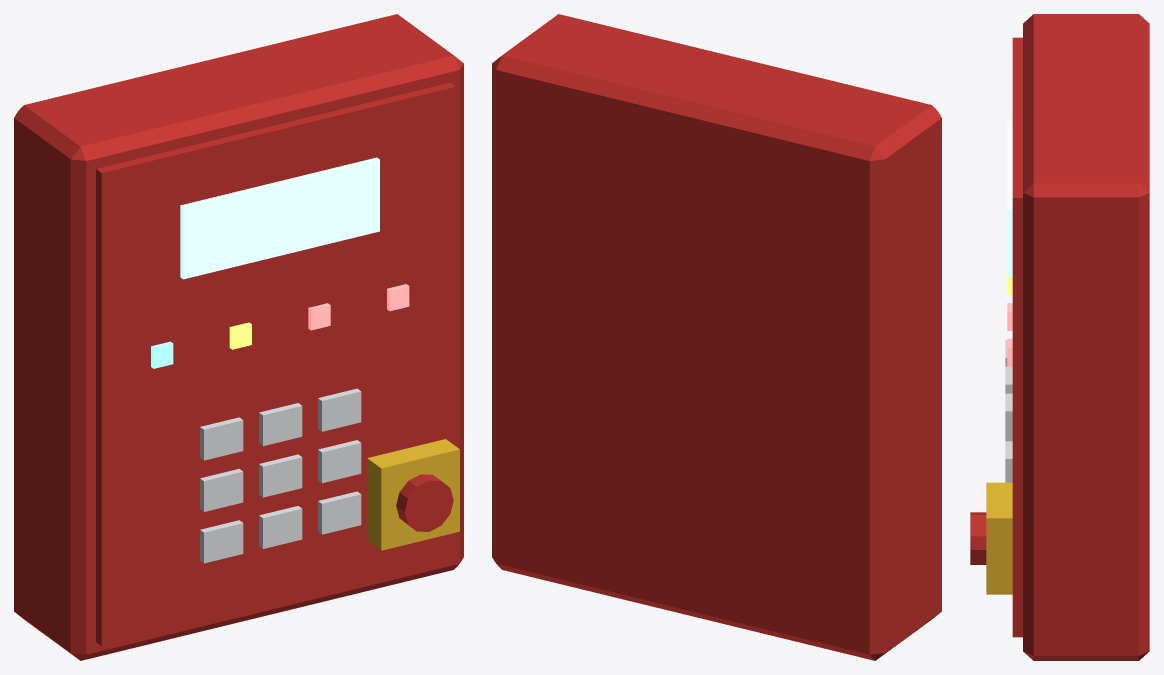
File: 40_Fire_Alarm_Control_Panel.fbx
The picture shows the model from 3 angles, left to right: view 1: azimuth 30°, elevation 25°; view 2: azimuth 150°, elevation 25°; view 3: azimuth 270°, elevation 25°; orthographic projection. The views are drawn at different scales.
Parts seen in each view (by area): view 1: 40_Fire_Alarm_Control_Panel; view 2: 40_Fire_Alarm_Control_Panel; view 3: 40_Fire_Alarm_Control_Panel.
Part boxes in pixels (x1,y1,x2,y2): 40_Fire_Alarm_Control_Panel: [14, 14, 463, 660]; 40_Fire_Alarm_Control_Panel: [492, 14, 941, 660]; 40_Fire_Alarm_Control_Panel: [970, 14, 1149, 660].
Size of the model in its own units: 0.4 by 0.5 by 0.17.
